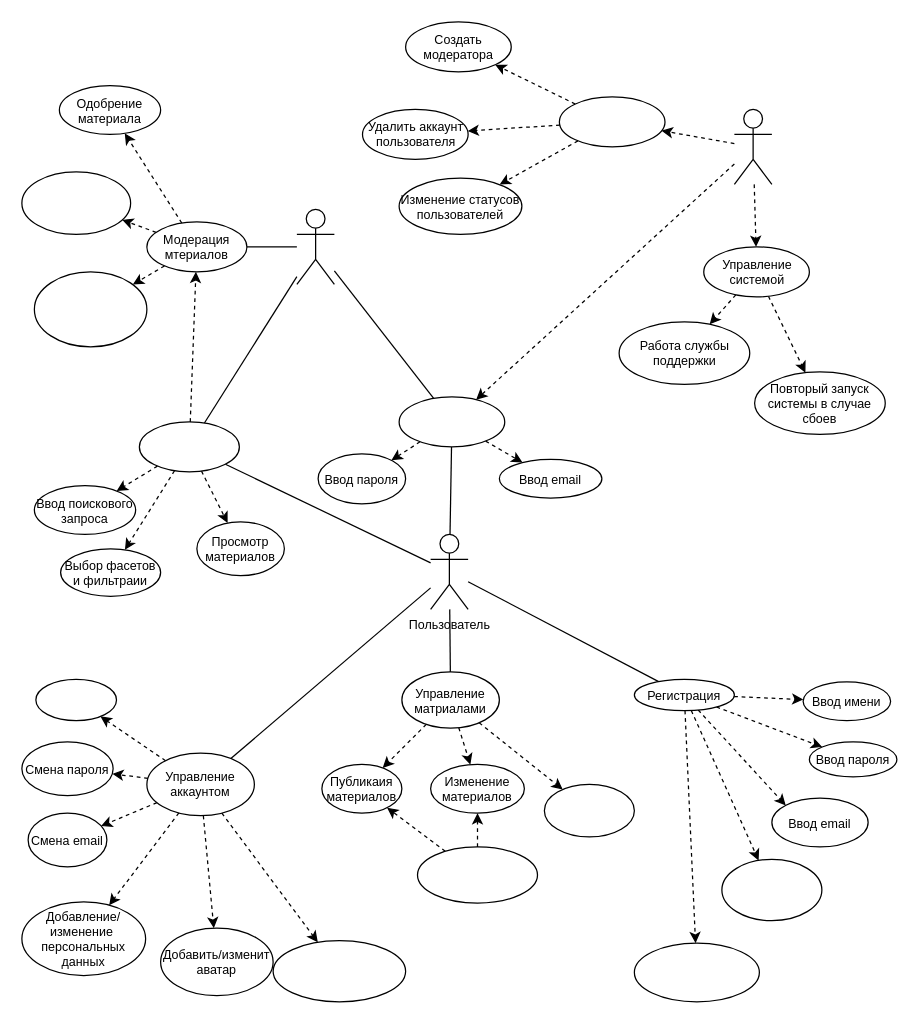
The diagram is 919 pixels wide and 1024 high, and some of its shapes have lost their labels. Here are the shapes that lost their labels. From the top down, the centre of each, then its label:
the point at 611,121: Управление аккаунтами
the point at 752,146: Администратор
the point at 76,202: Взаимодействие с пользователем
the point at 315,246: Модератор
the point at 90,309: Создание рекомендаций по исправлению
the point at 451,421: Войти в аккаунт
the point at 188,446: Поиск материалов
the point at 75,699: Смена имени
the point at 588,810: Удаление материалов
the point at 477,874: Взаимодействие с мадератором
the point at 771,889: Подтверждение учетных данных
the point at 339,970: Добавить/изменить контактную информаию
the point at 696,972: Получение роли доступа к функциям системы
